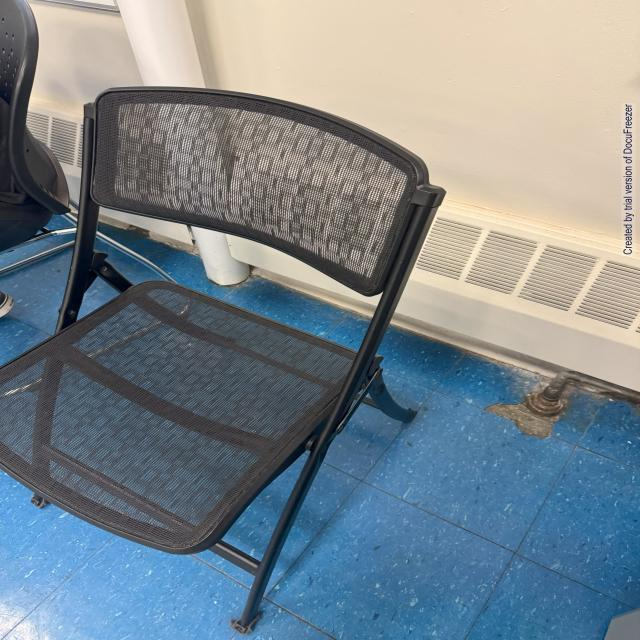chair: (0, 73, 407, 640)
